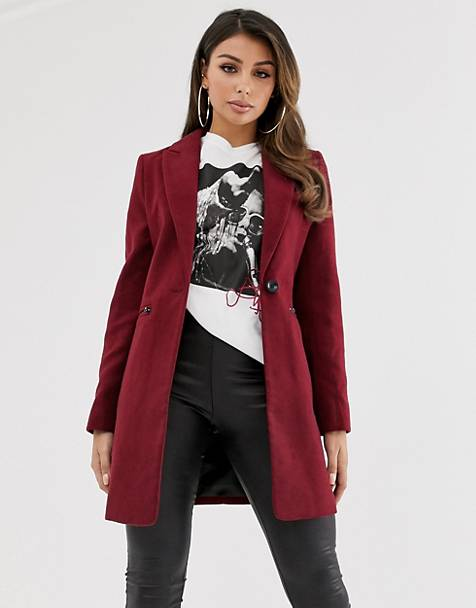F_W_suit jacket: (89, 129, 353, 520)
